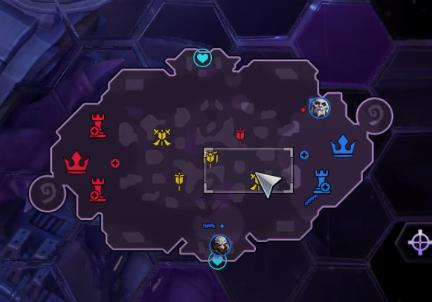blue nexus: (329, 133, 356, 157)
blue player: (308, 96, 330, 119), (209, 234, 231, 255)
blue tower: (313, 169, 330, 193)
red nexus: (62, 149, 89, 174)
red tower: (88, 112, 107, 138), (88, 176, 106, 202)
